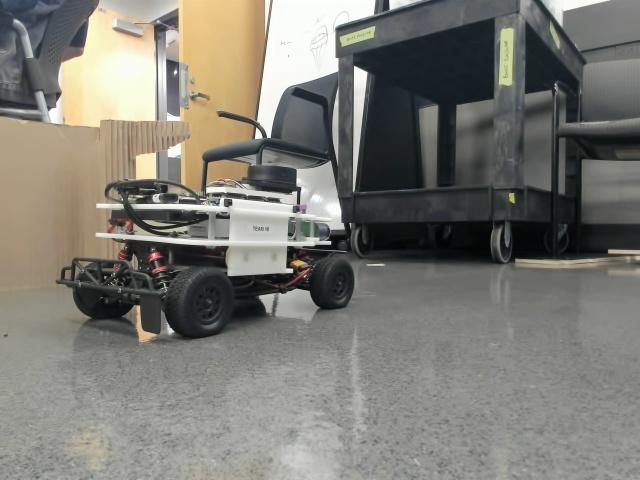Car: (67, 162, 355, 336)
